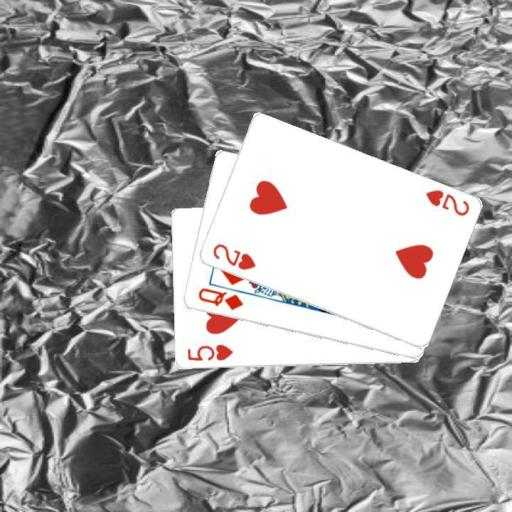2H: (422, 186, 471, 218), (209, 240, 257, 272)
5H: (183, 342, 234, 363)
QD: (194, 285, 245, 312)
